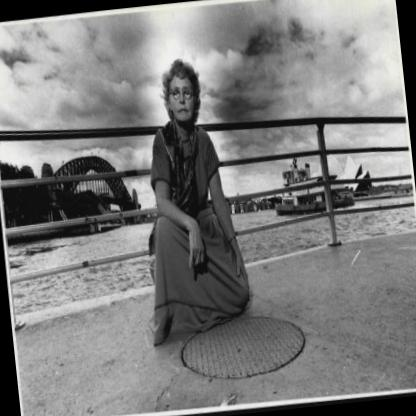manholes: (156, 271, 344, 406)
